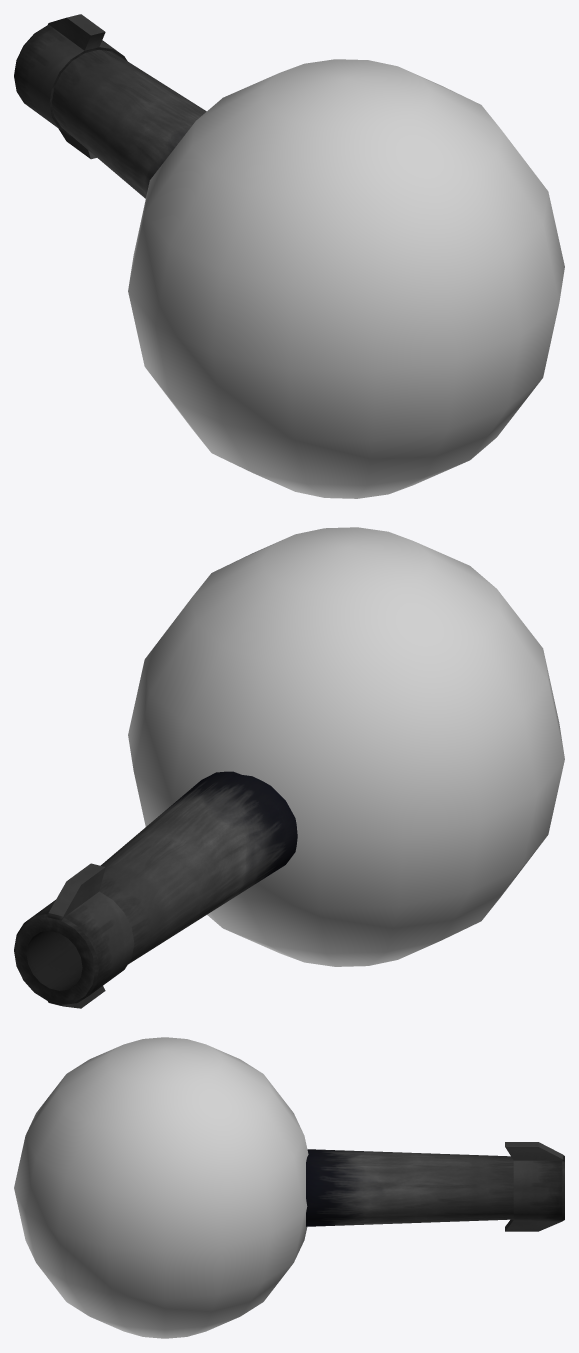
File: asu.FBX
The picture shows the model from 3 angles, top to bottom: view 1: azimuth 30°, elevation 25°; view 2: azimuth 150°, elevation 25°; view 3: azimuth 270°, elevation 25°; orthographic projection. The views are drawn at different scales.
Visible parts, largest first — view 1: Sphere001, Cylinder001; view 2: Sphere001, Cylinder001; view 3: Sphere001, Cylinder001.
Part boxes in pixels (left/top/right/bottom): Sphere001: left=128, top=59, right=564, bottom=498; Cylinder001: left=14, top=14, right=206, bottom=198; Sphere001: left=128, top=527, right=564, bottom=966; Cylinder001: left=14, top=771, right=297, bottom=1008; Sphere001: left=14, top=1037, right=308, bottom=1338; Cylinder001: left=306, top=1142, right=564, bottom=1231.
Bounding box in the file's own units: 172 × 172 × 314.
